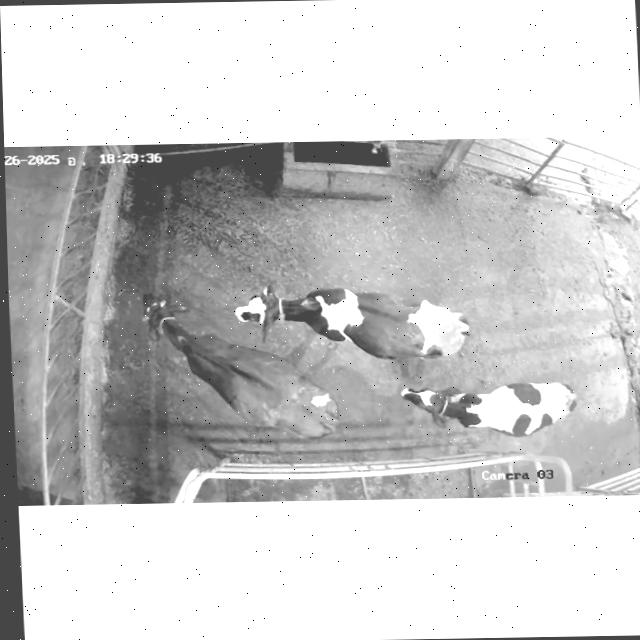stand: (142, 292, 338, 438), (234, 283, 469, 359), (400, 381, 576, 436)
